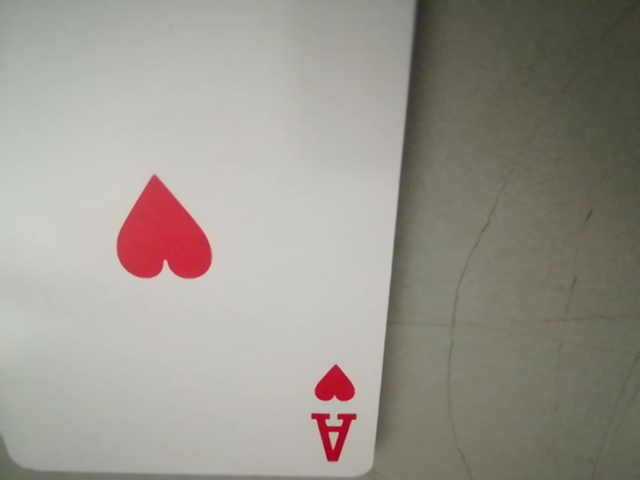hx a: (306, 358, 361, 465)
